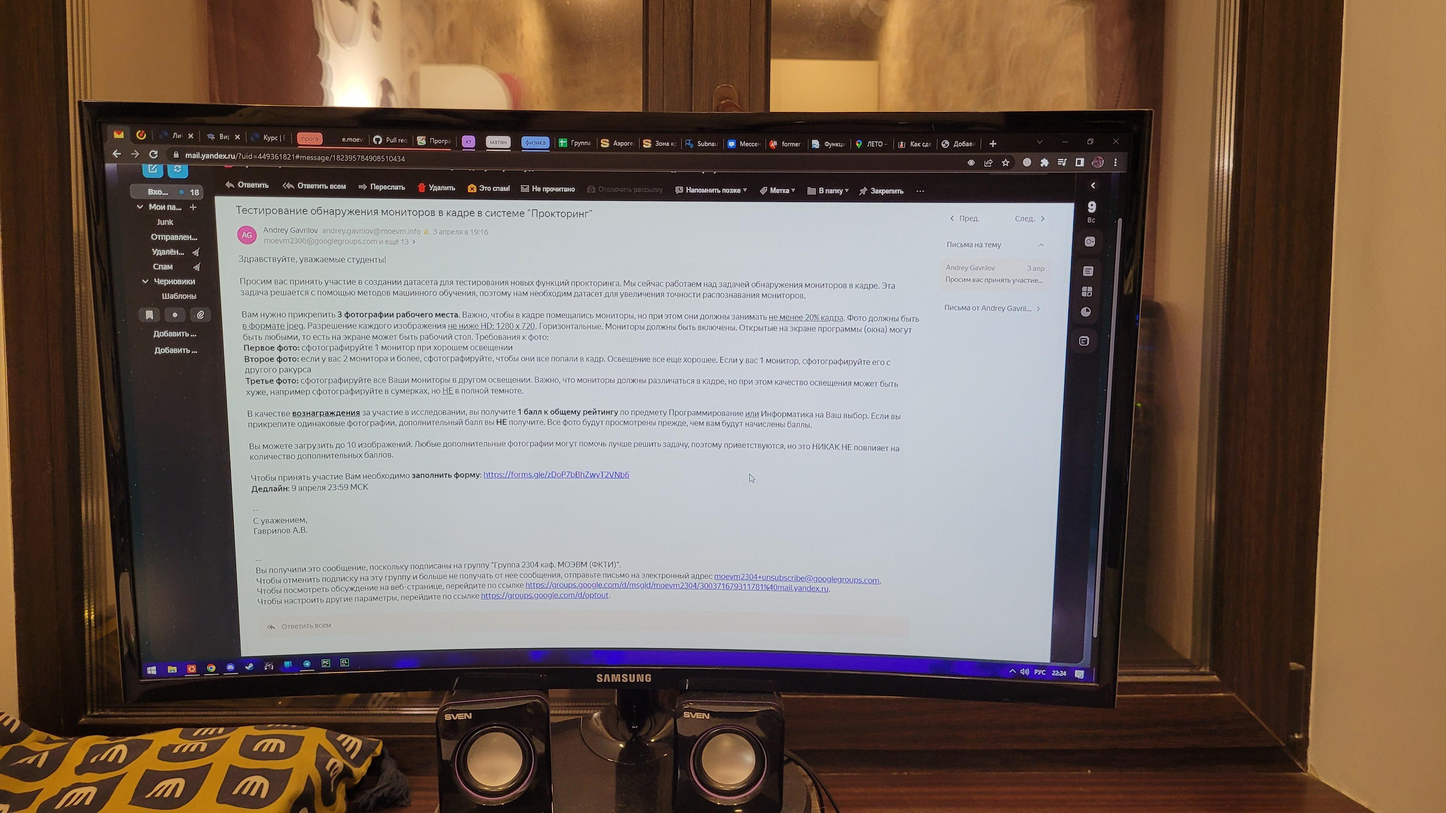monitor: (63, 93, 1164, 729)
